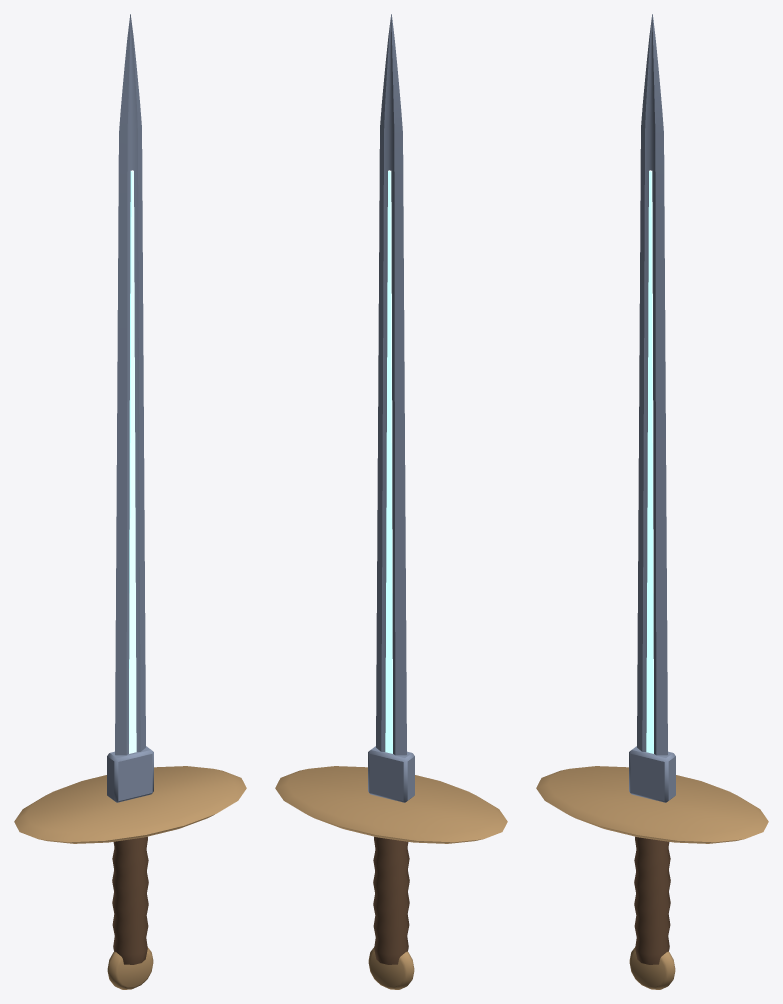
File: depth_frostbell_broadsword.glb
The picture shows the model from 3 angles, left to right: view 1: azimuth 30°, elevation 25°; view 2: azimuth 150°, elevation 25°; view 3: azimuth 330°, elevation 25°; orthographic projection.
Visible parts, largest first — view 1: depth_frostbell_broadsword; view 2: depth_frostbell_broadsword; view 3: depth_frostbell_broadsword.
Part boxes in pixels (x1,y1,x2,y2): depth_frostbell_broadsword: (14, 14, 246, 989); depth_frostbell_broadsword: (275, 14, 507, 989); depth_frostbell_broadsword: (536, 14, 768, 989).
Size of the model in its own units: 0.26 by 1.09 by 0.1408.
